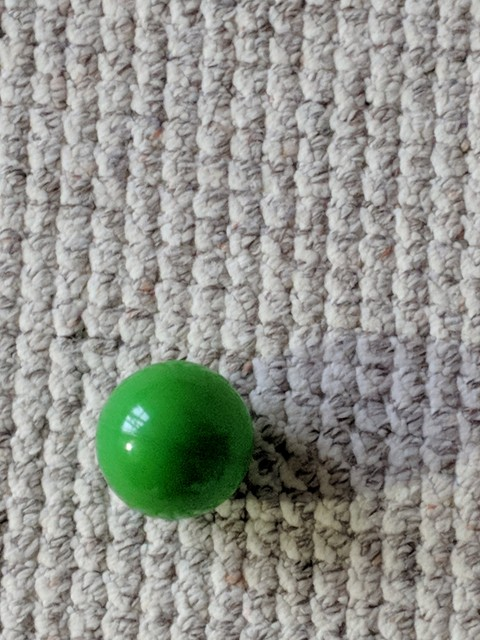Ball: (89, 361, 257, 518)
